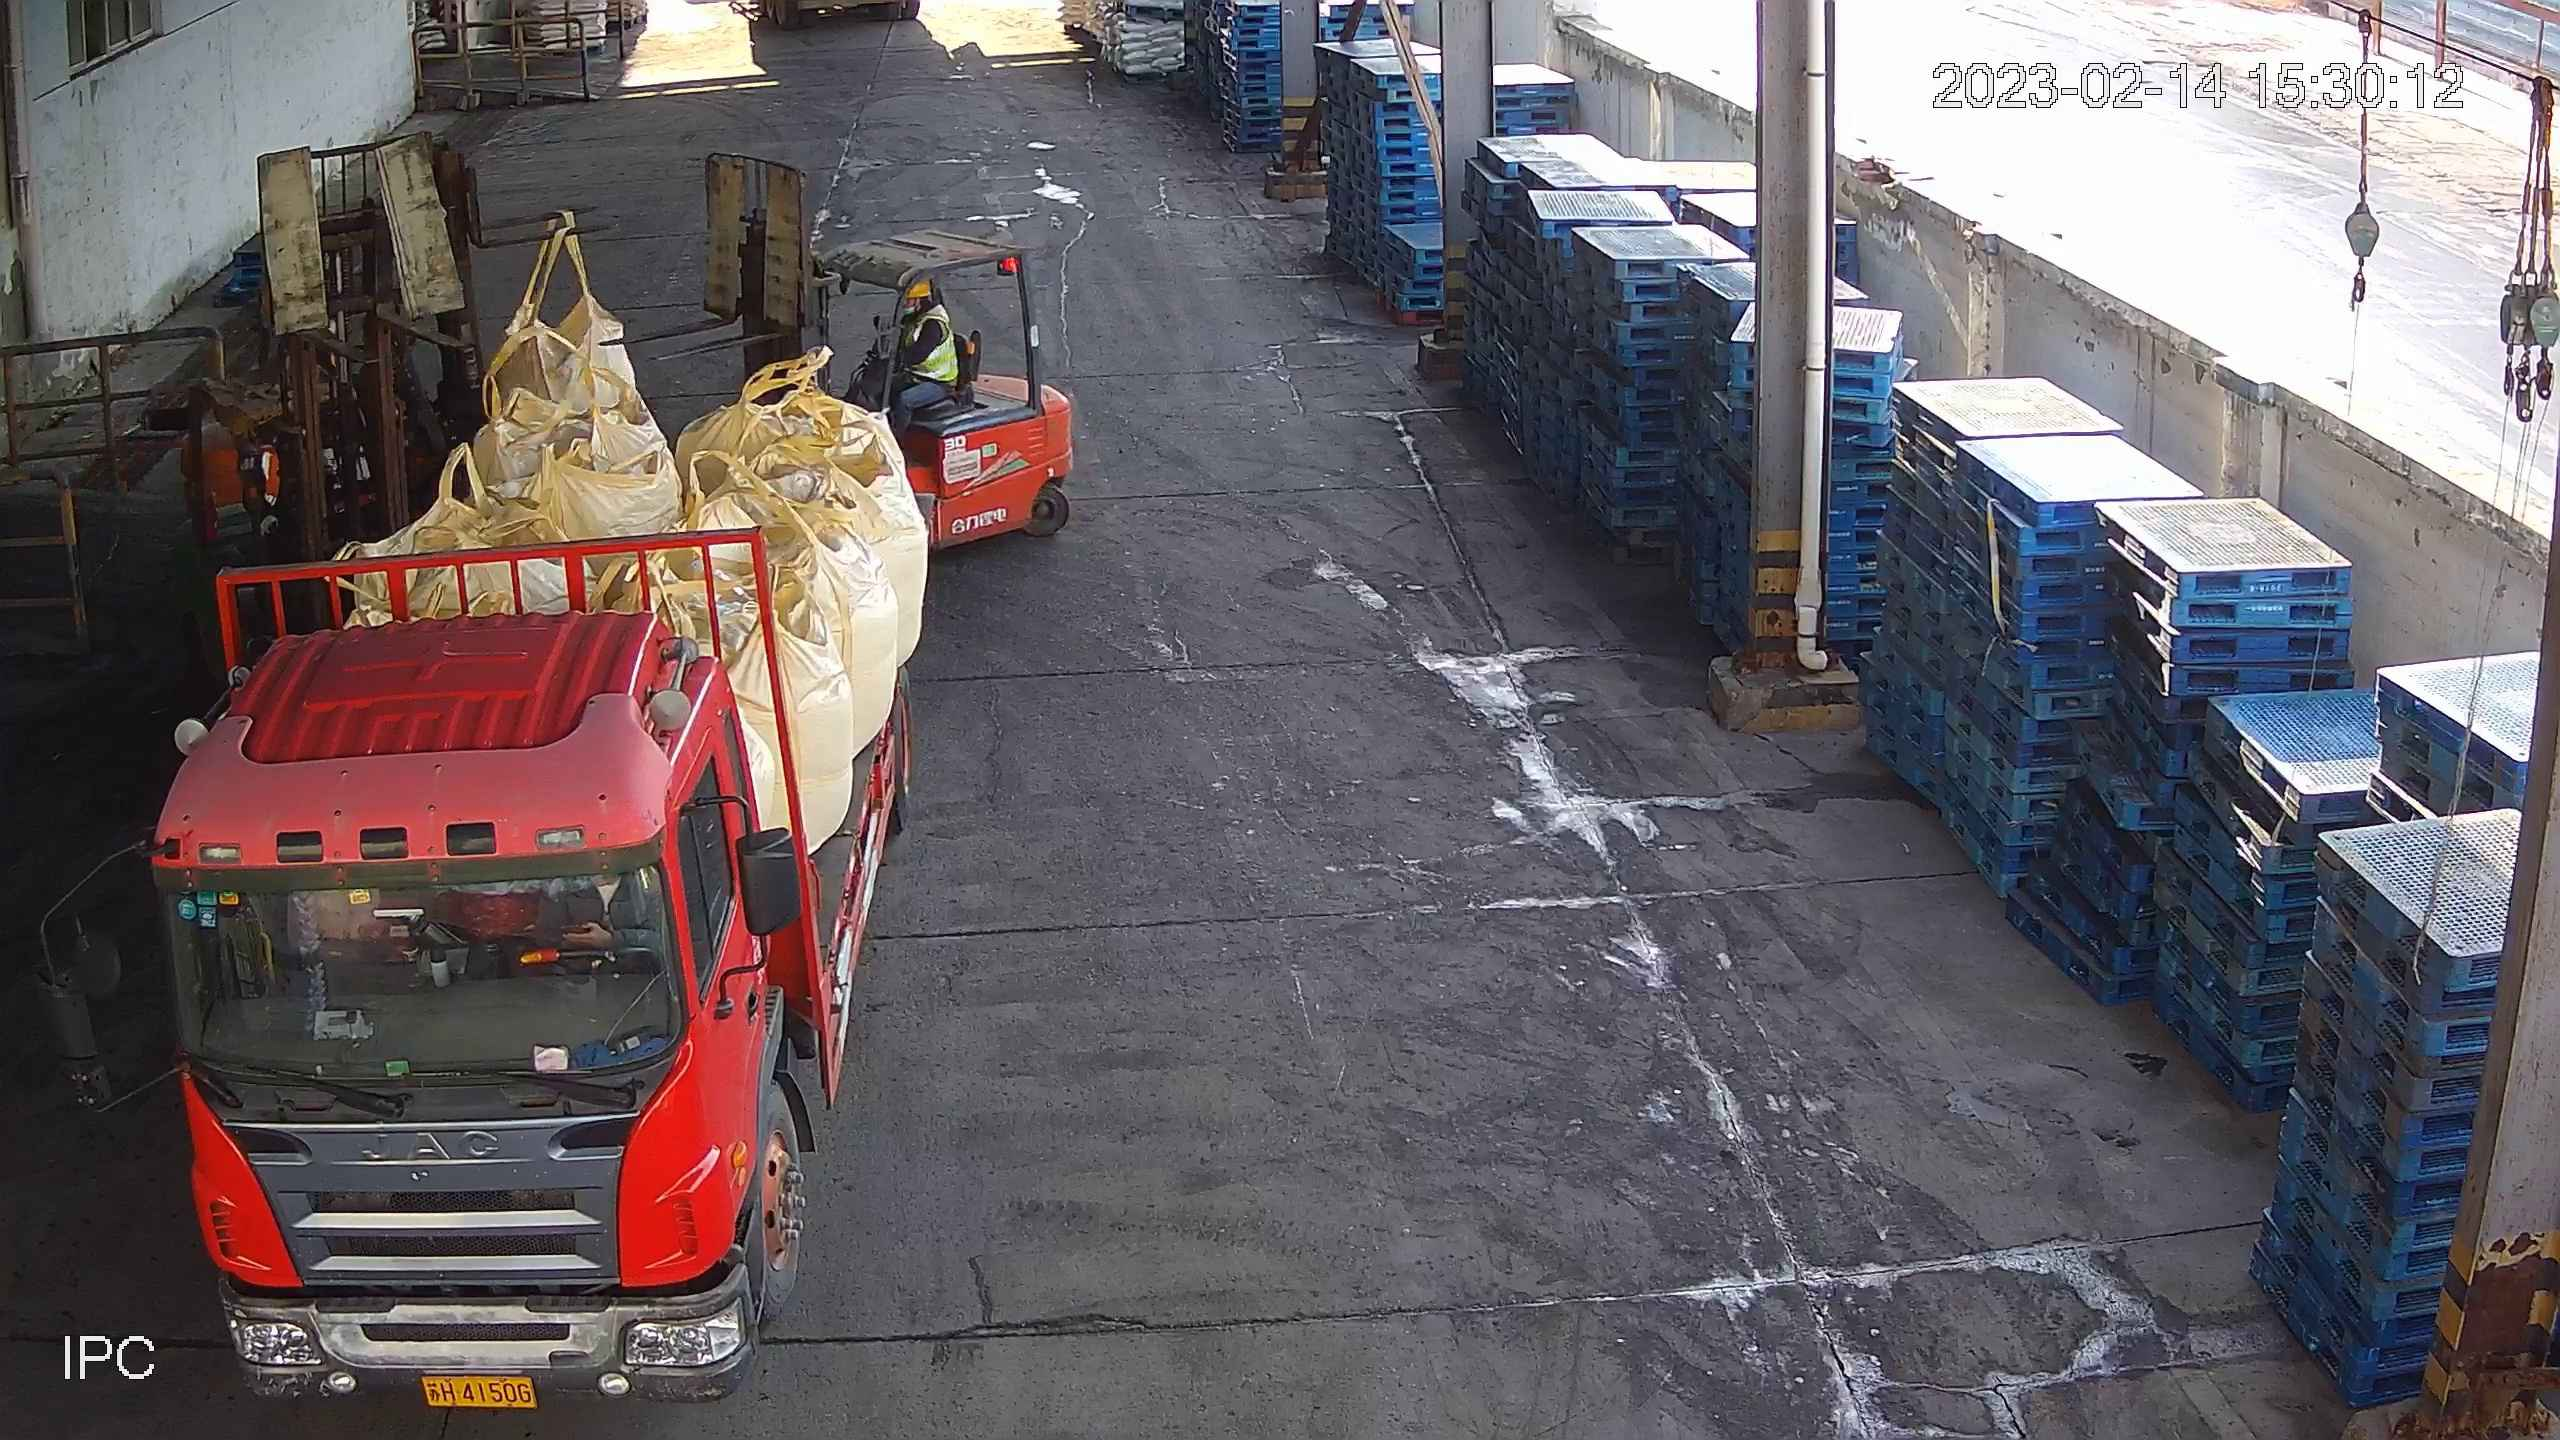people: (890, 278, 957, 437)
truck: (31, 491, 933, 1410)
